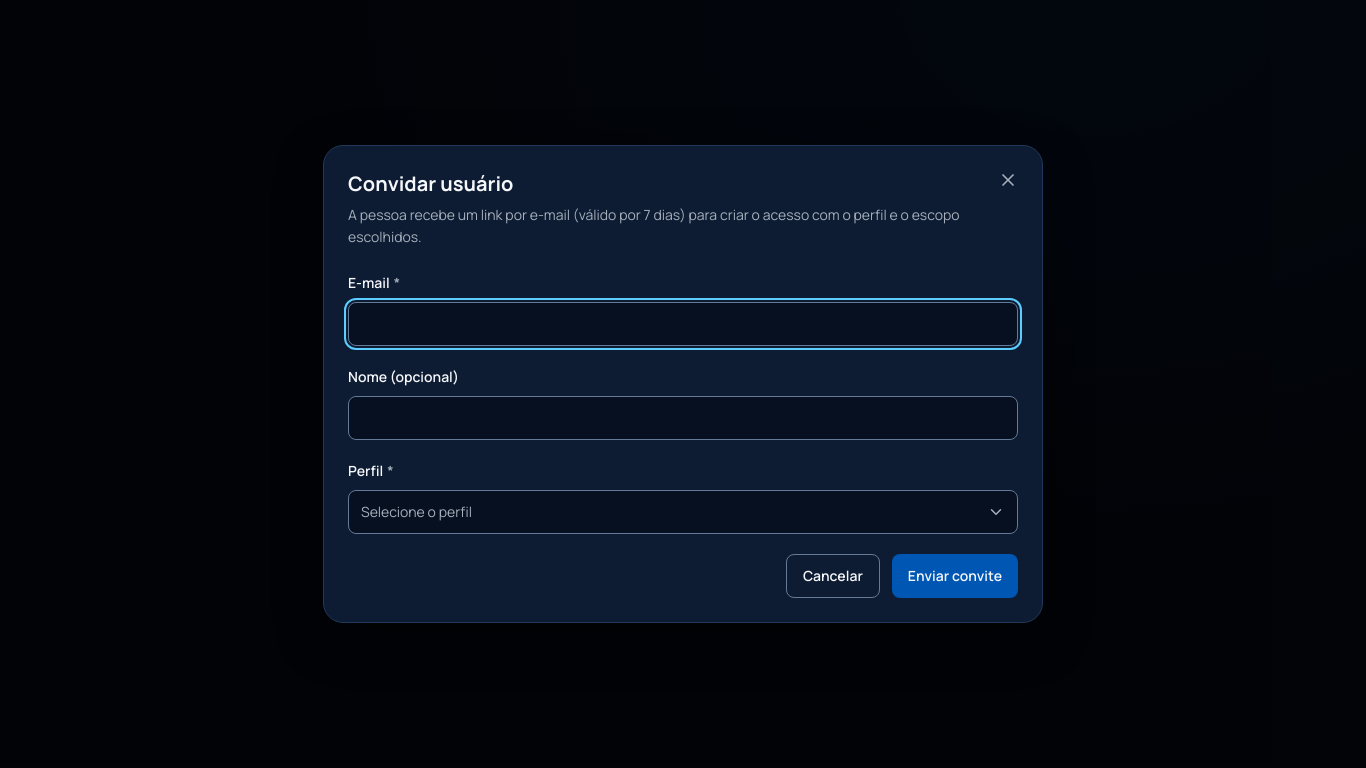
Test case: Convite — erro de escalonamento › Super Admin não é oferecido (reservado aos Admin Master) e o 403 ROLE_RESERVED_FOR_ADMIN_MASTER é explicado
The image size is (1366, 768).
Click the dropdown labelled "Selecione o perfil" at coordinates (416, 512), box [348,490,1018,534]
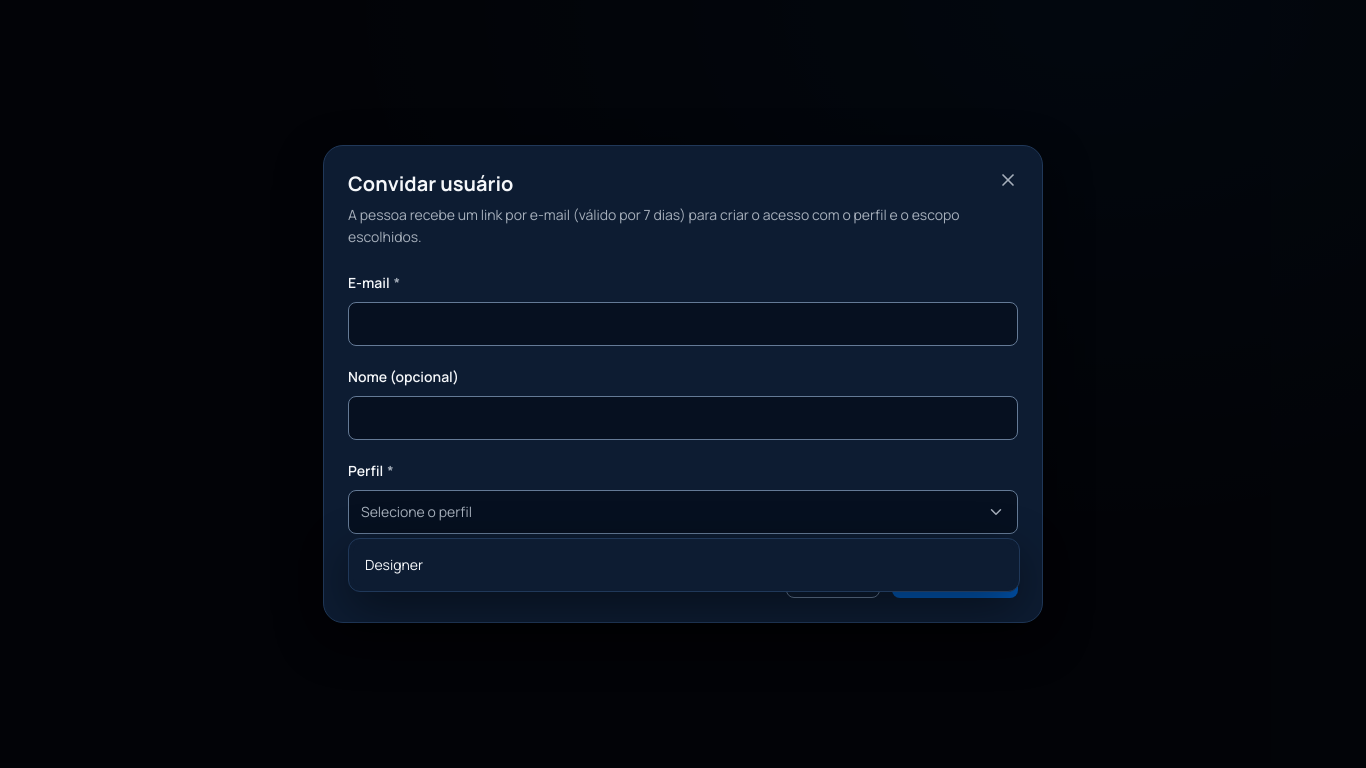
Expected: the option "Designer" is shown, [353,543,1015,587]
